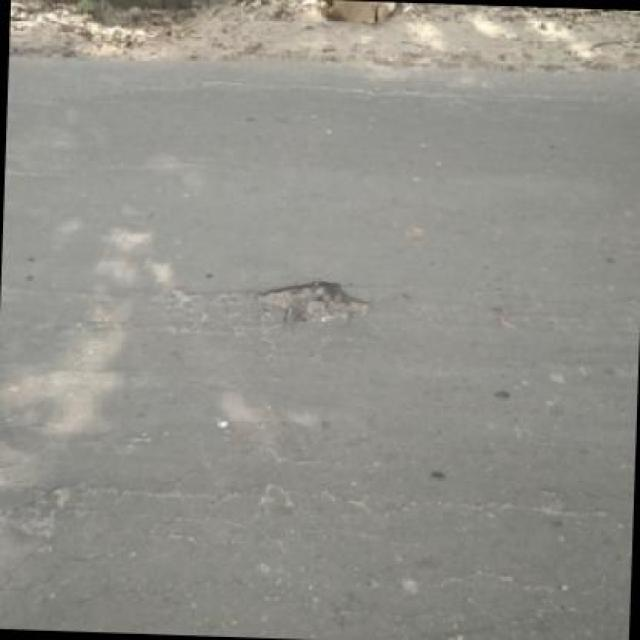pothole1: (250, 274, 373, 328)
